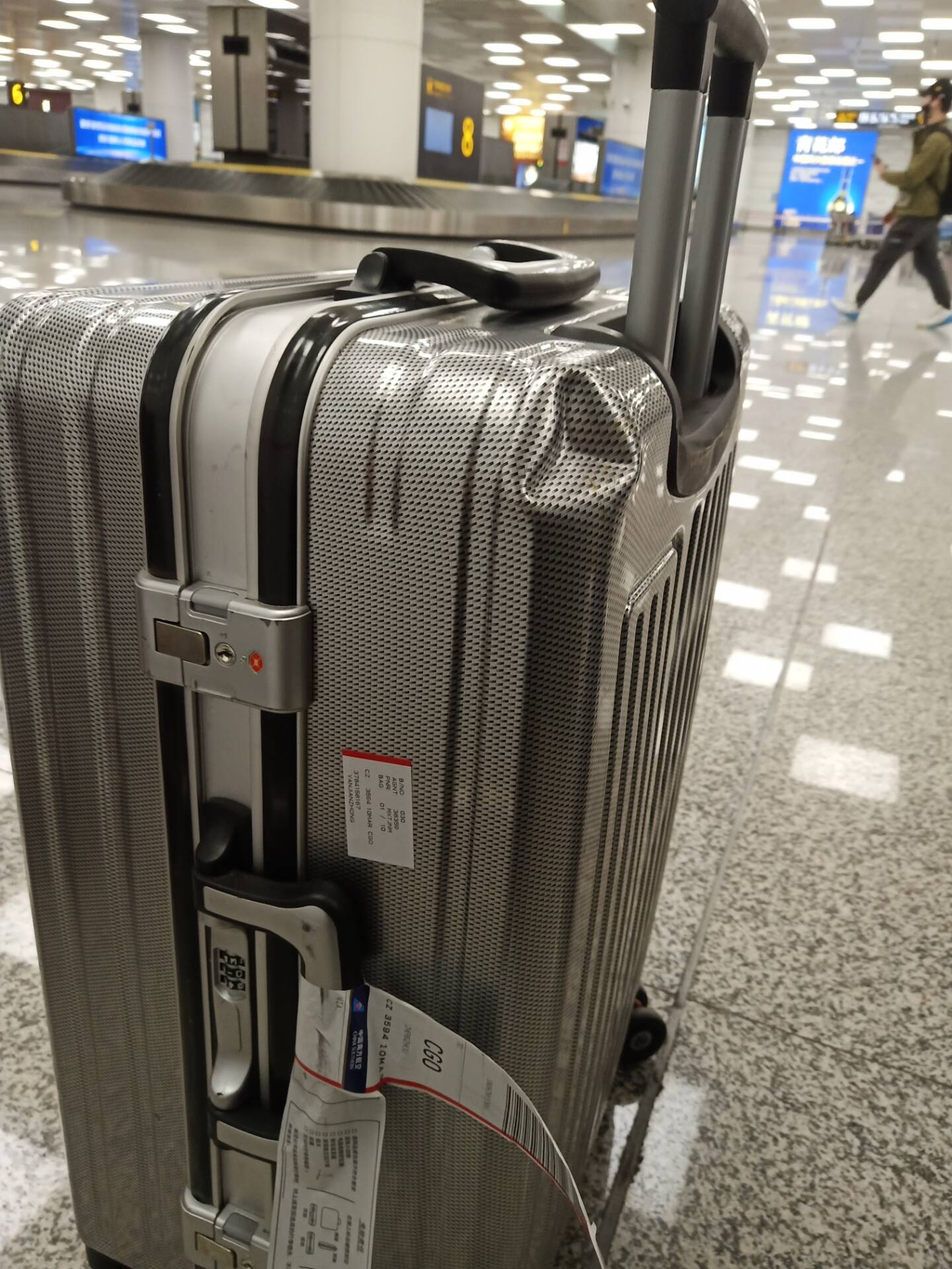rupture: (518, 367, 639, 508)
